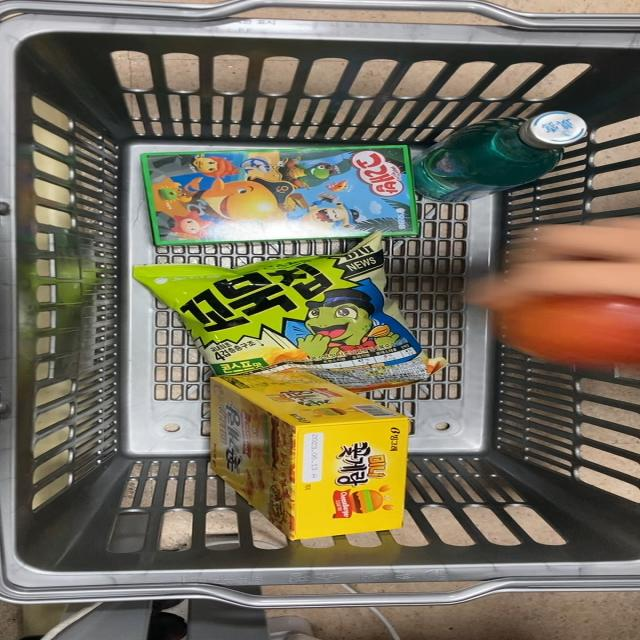ggobukchip: (143, 252, 459, 372)
goraebob: (122, 129, 432, 254)
jinro: (422, 108, 620, 196)
minicrab: (184, 372, 420, 536)
plum: (468, 281, 640, 371)
